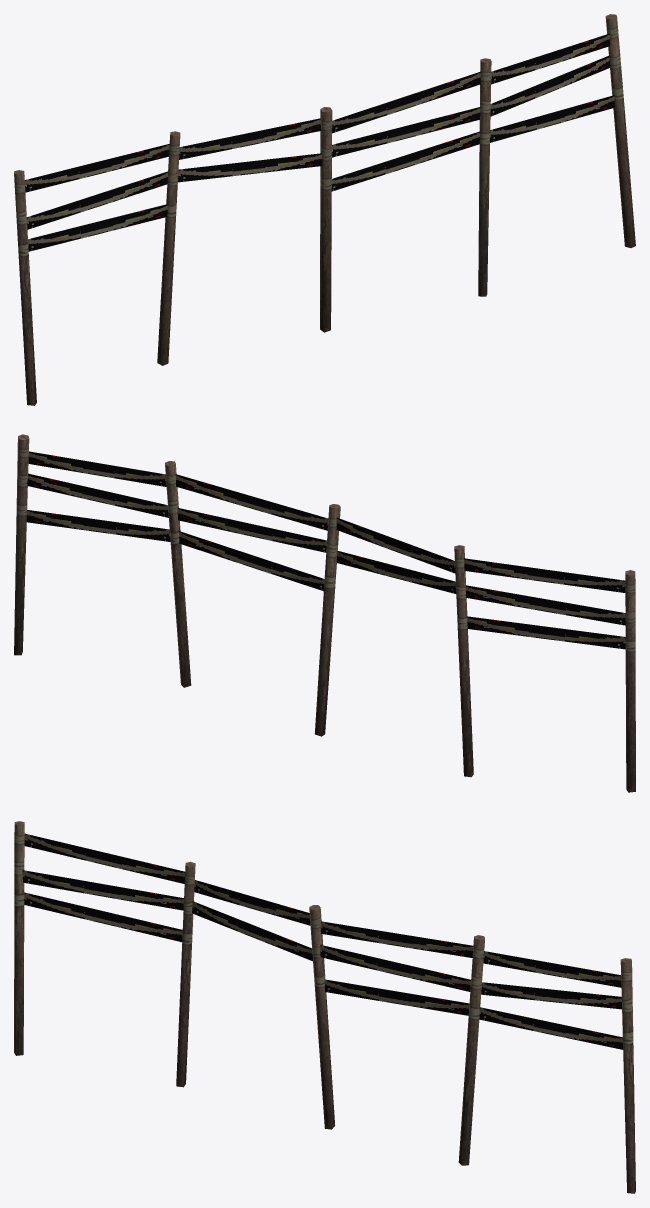
Rendered from objects_un_a_w23fence01.gltf.
3 renders of one model, top to bottom at view 1: azimuth 30°, elevation 25°; view 2: azimuth 150°, elevation 25°; view 3: azimuth 330°, elevation 25°, orthographic.
Visible parts, largest first — view 1: um_objects_un_a_w23fence01_model_lod0Shape:objects_un_a_w23f; view 2: um_objects_un_a_w23fence01_model_lod0Shape:objects_un_a_w23f; view 3: um_objects_un_a_w23fence01_model_lod0Shape:objects_un_a_w23f.
Part boxes in pixels (x1,y1,x2,y2): um_objects_un_a_w23fence01_model_lod0Shape:objects_un_a_w23f: (14, 14, 635, 405); um_objects_un_a_w23fence01_model_lod0Shape:objects_un_a_w23f: (14, 434, 635, 792); um_objects_un_a_w23fence01_model_lod0Shape:objects_un_a_w23f: (14, 821, 635, 1193).
Size of what is drawn, in the model's own units: 7.41 by 2.69 by 0.5096.
2 materials, 1 textured.
